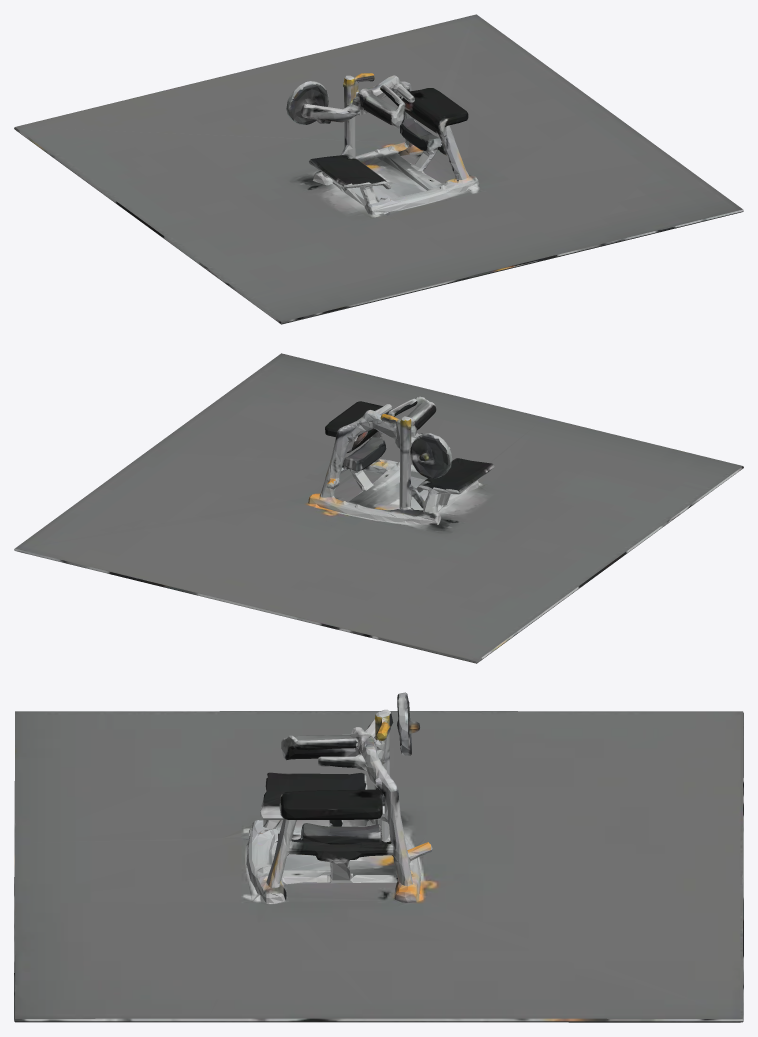
Rendered from k1-matrix-mg-glute-phone.glb.
The picture shows the model from 3 angles, top to bottom: view 1: azimuth 30°, elevation 25°; view 2: azimuth 150°, elevation 25°; view 3: azimuth 270°, elevation 25°; orthographic projection. The views are drawn at different scales.
Visible parts, largest first — view 1: demo_textured.obj; view 2: demo_textured.obj; view 3: demo_textured.obj.
Part boxes in pixels (x1,y1,x2,y2): demo_textured.obj: (14, 14, 743, 324); demo_textured.obj: (14, 353, 743, 663); demo_textured.obj: (14, 692, 743, 1022).
Size of the model in its own units: 1.99 by 0.412 by 1.99.
Materials: 1 (1 with a texture image).
